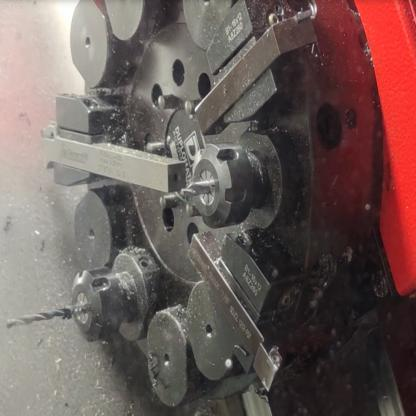bit: (177, 220, 319, 402), (185, 0, 337, 142), (32, 85, 196, 200)
